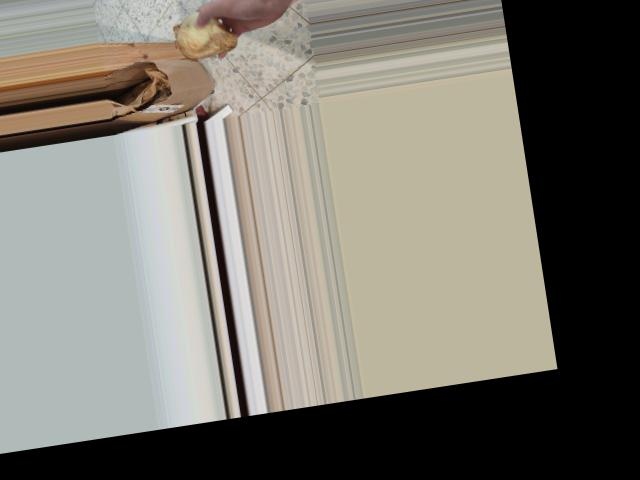onion: (168, 5, 244, 65)
